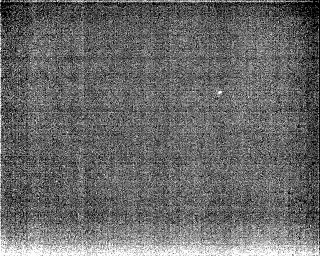BIRD: (216, 88, 224, 97)
